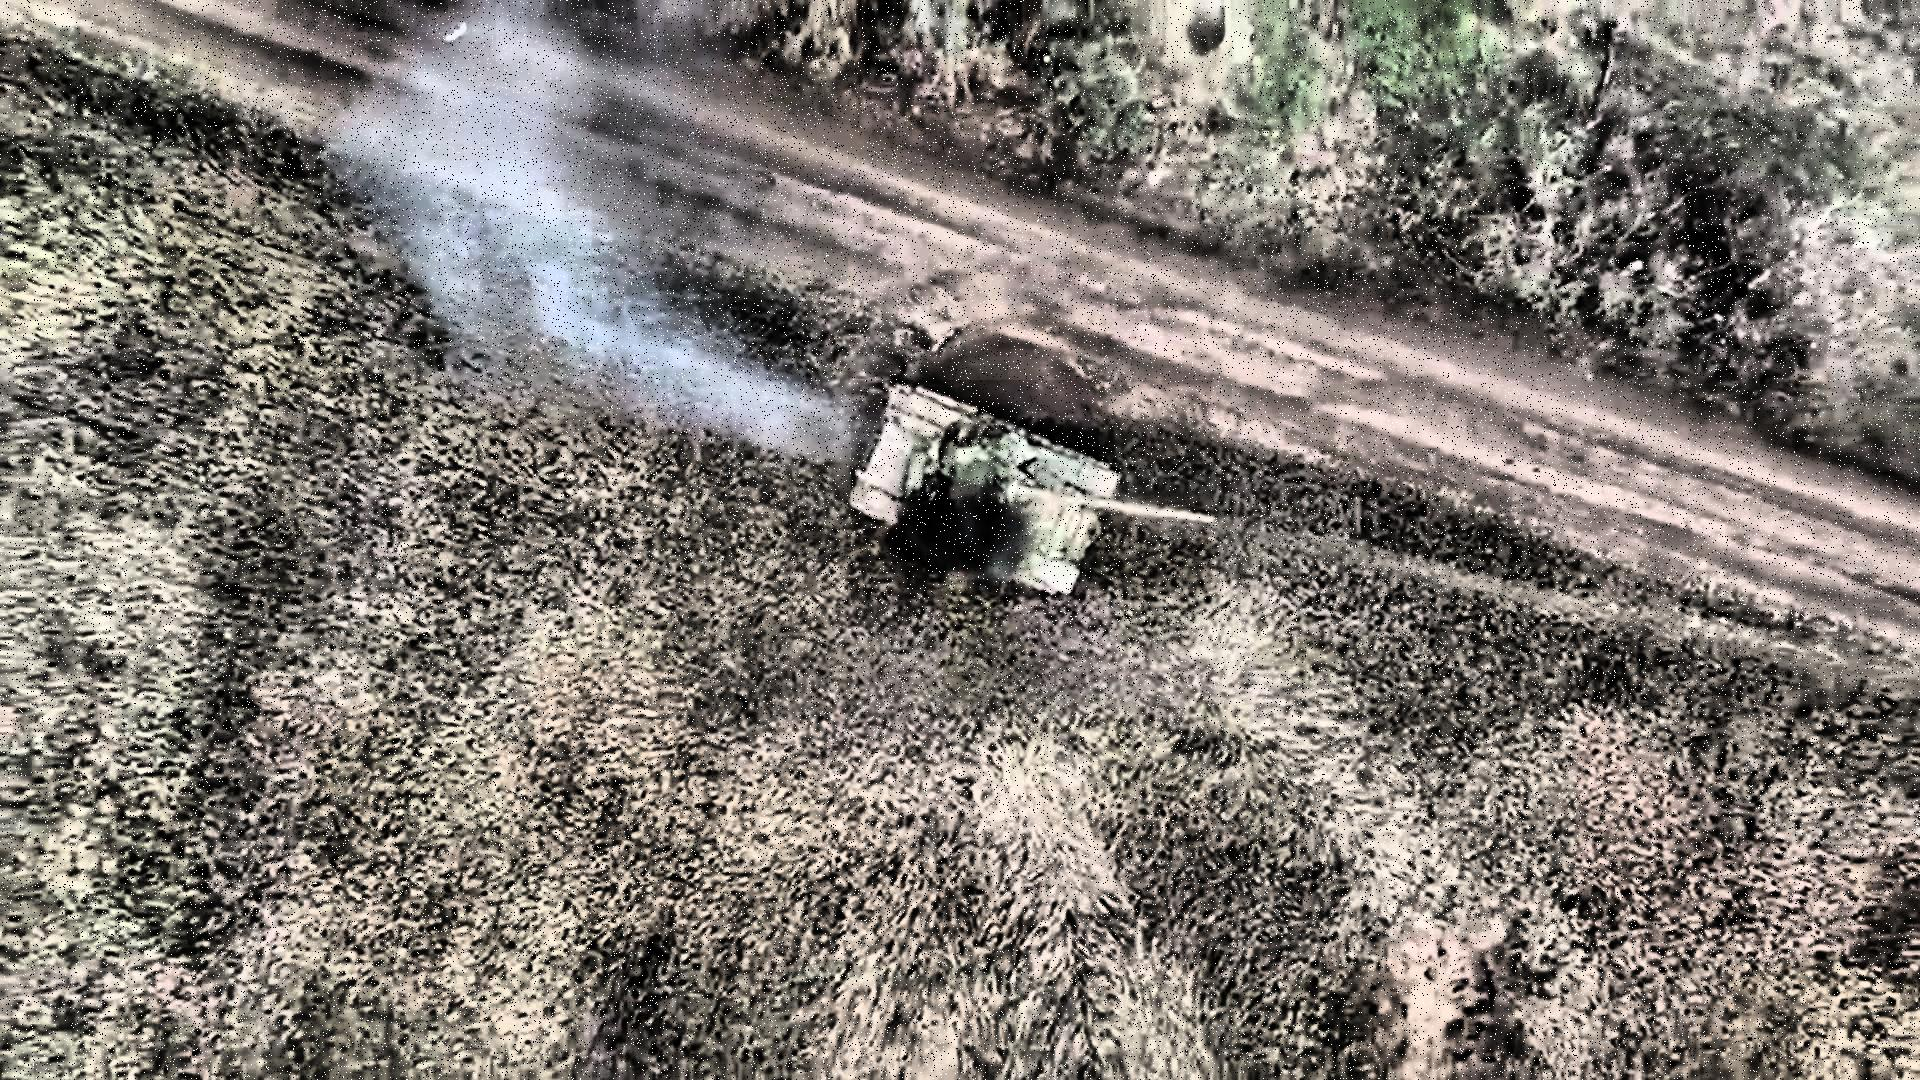military-vehicle: (852, 380, 1212, 600)
